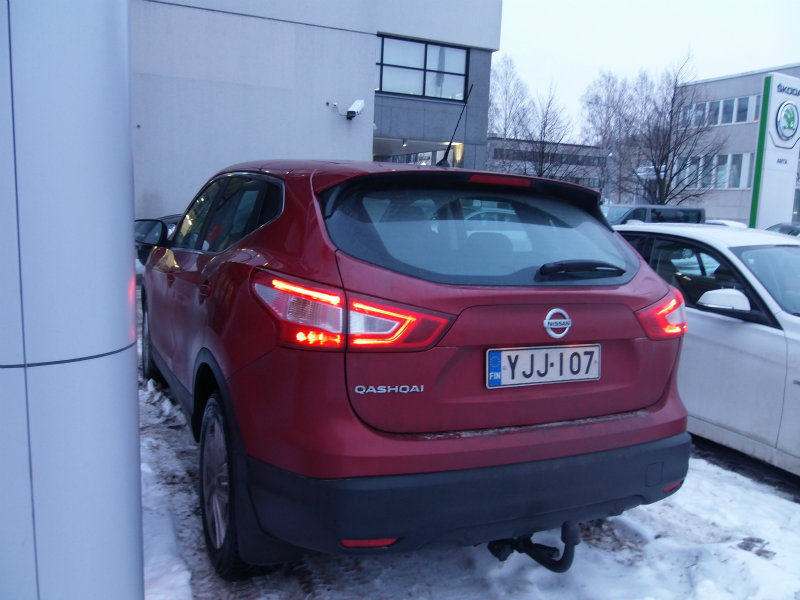license: (488, 343, 601, 391)
